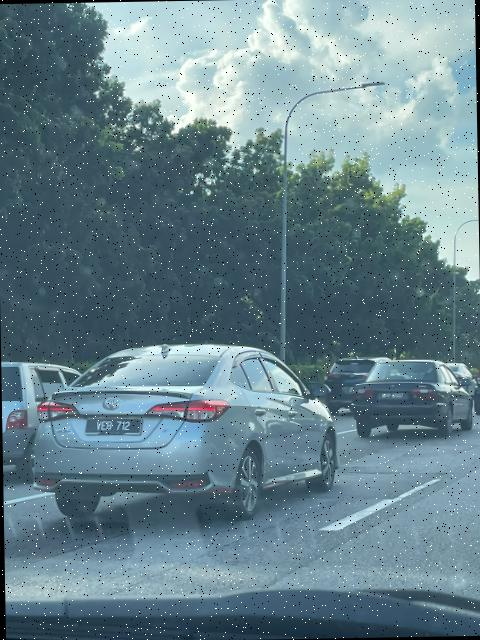License_Plate: (90, 415, 143, 441)
car: (35, 328, 339, 521)
